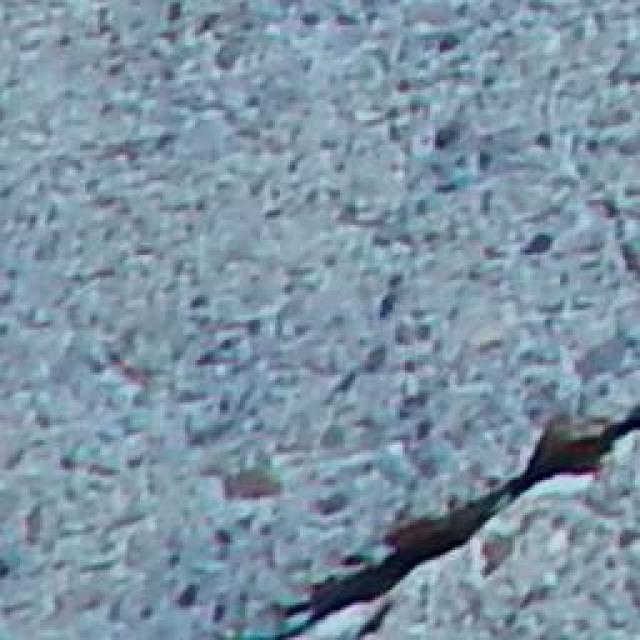concrete-crack: (281, 406, 640, 638)
